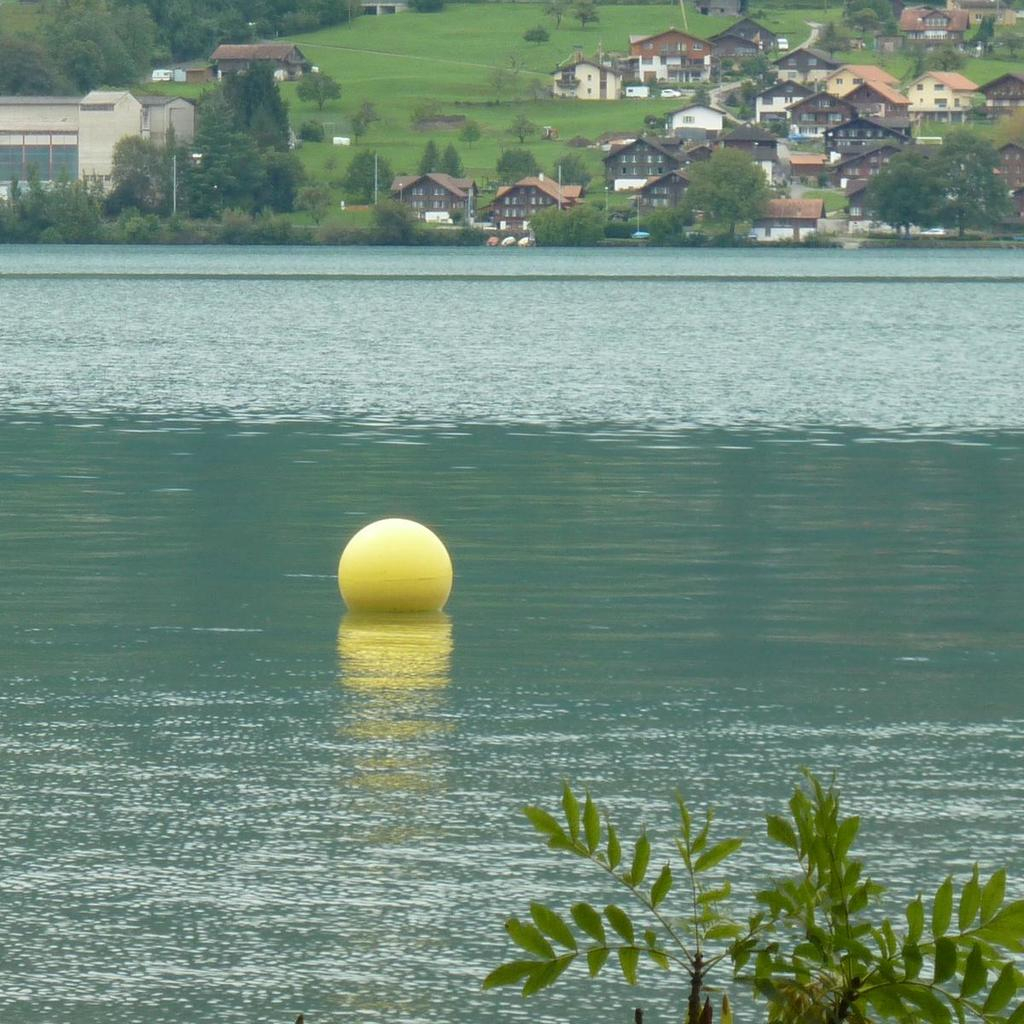Ball: (337, 521, 452, 614)
